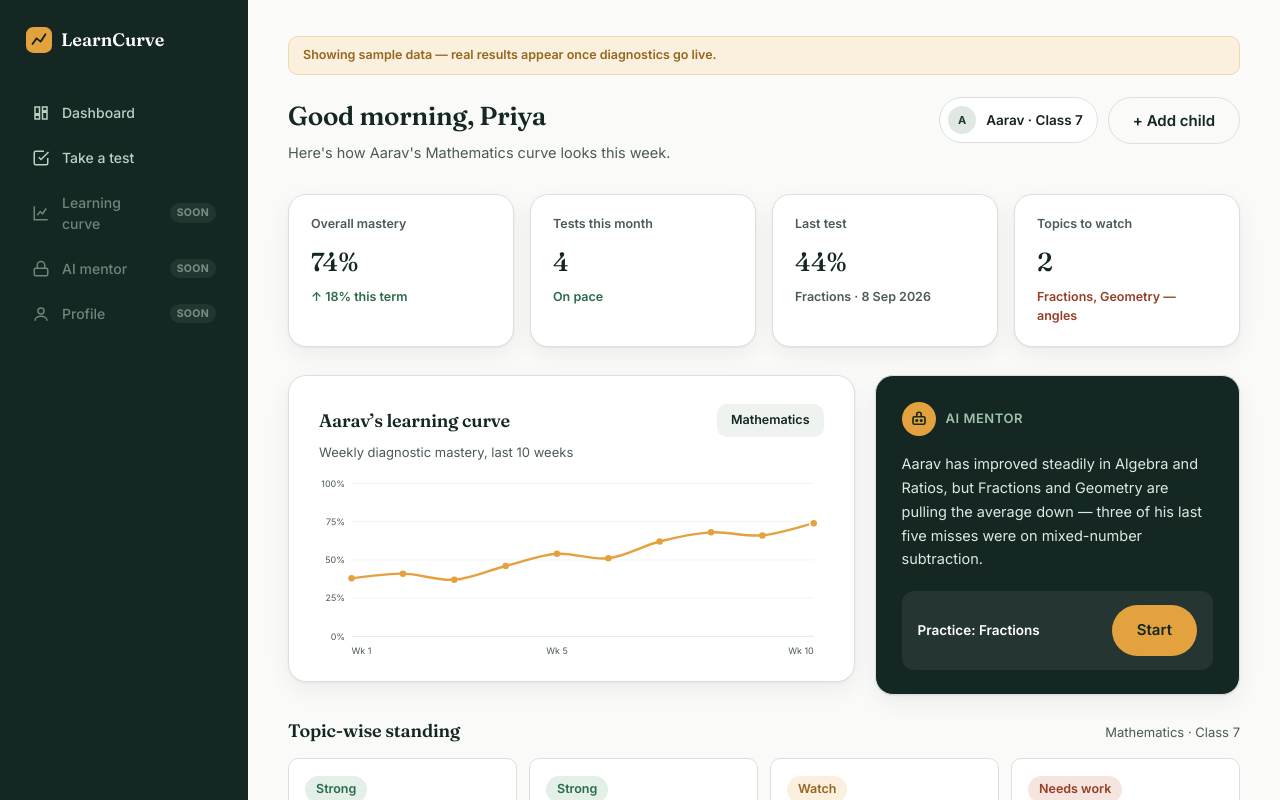
Test: Dashboard › lets a parent add a second child and switch between them
The image size is (1280, 800).
Expected: the text "Overall mastery" is shown, [311,216,406,230]
Click the button "+ Add child": click(1174, 120) [1108,97,1240,144]
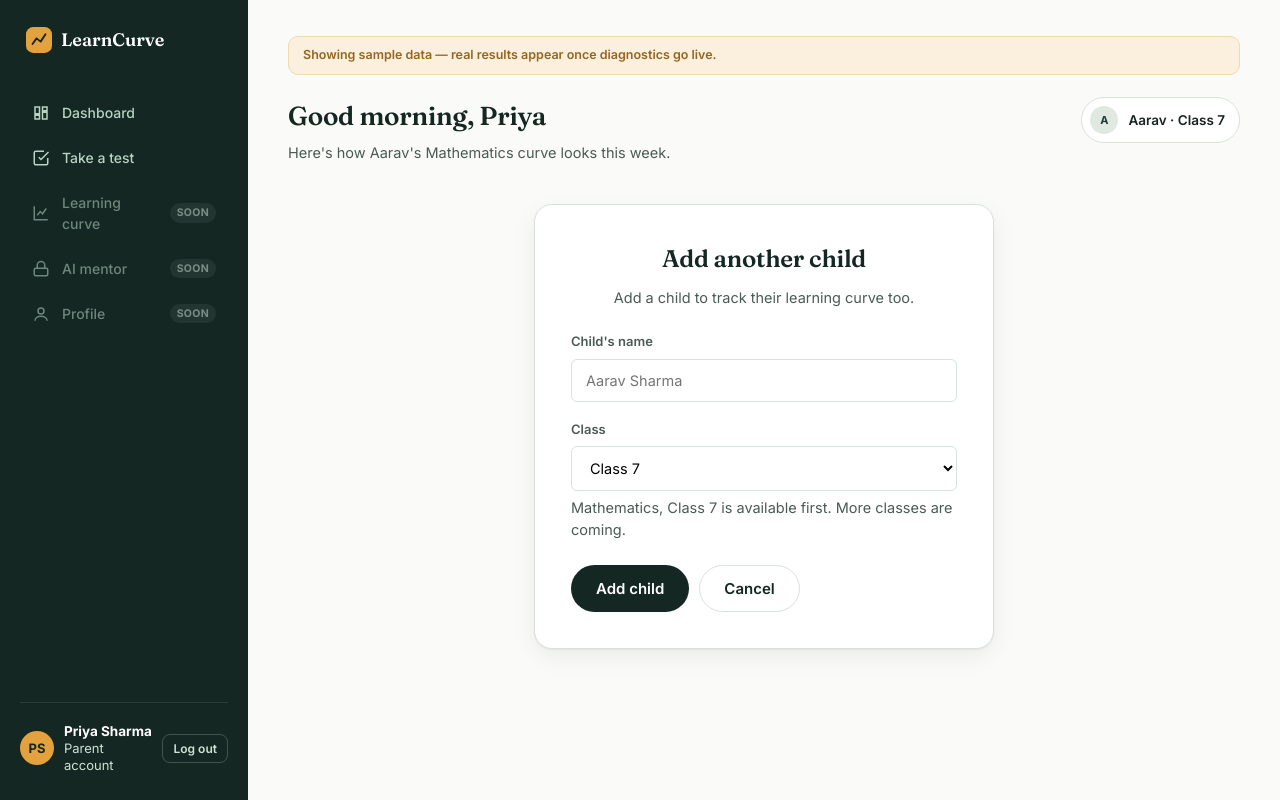
In the field labelled "Child's name": (764, 380) [571,359,957,402], type "Meera Sharma"
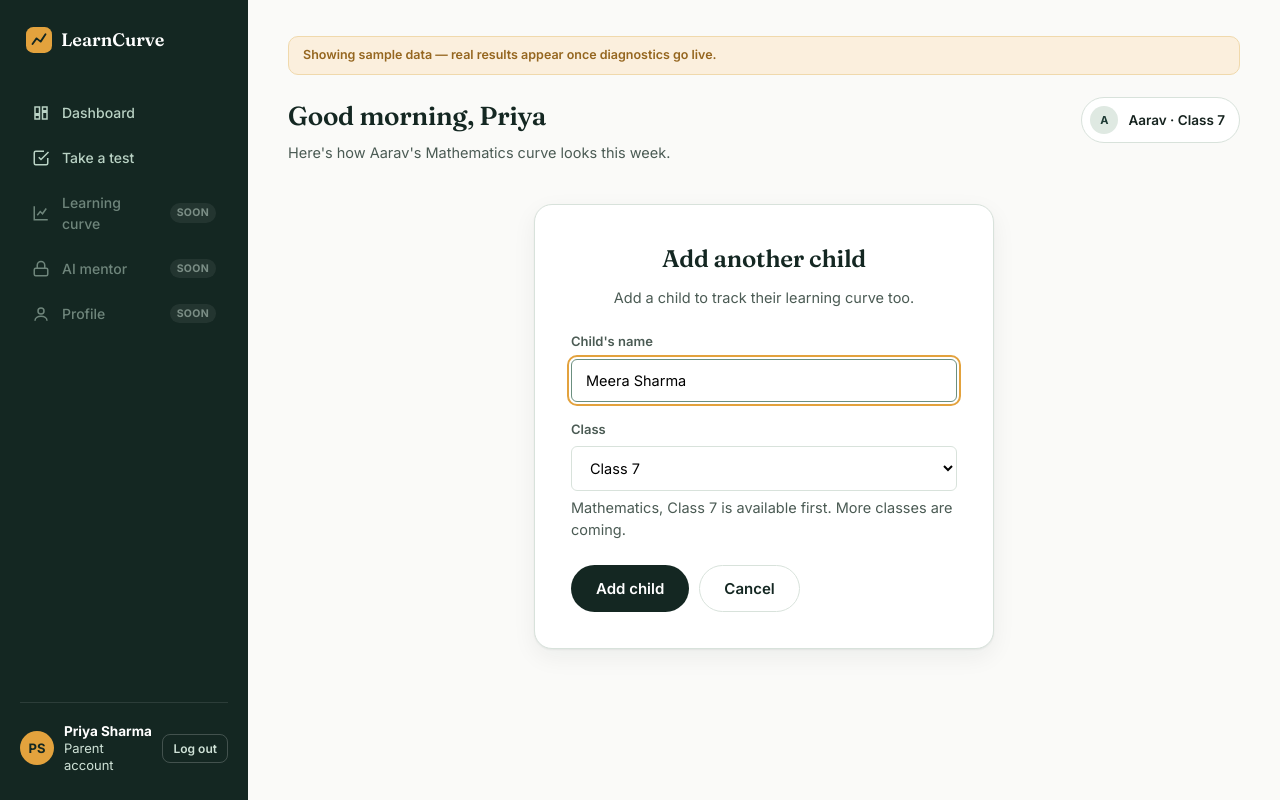
Click the button "Add child": click(630, 588) [571,565,689,612]
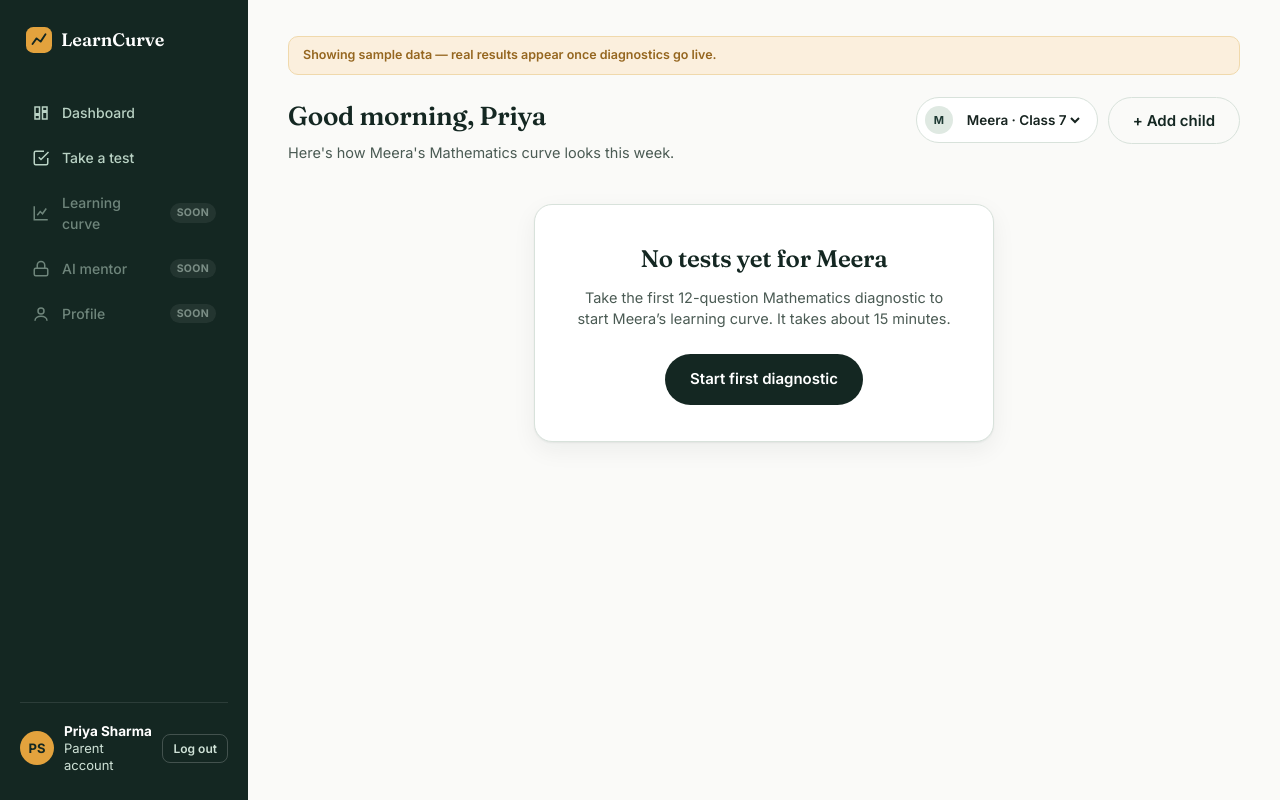
Now the heading "No tests yet for Meera" is shown, box [640,244,888,272]
Select "Aarav · Class 7" in the dropdown named "Switch child": (1023, 120) [963,111,1083,129]
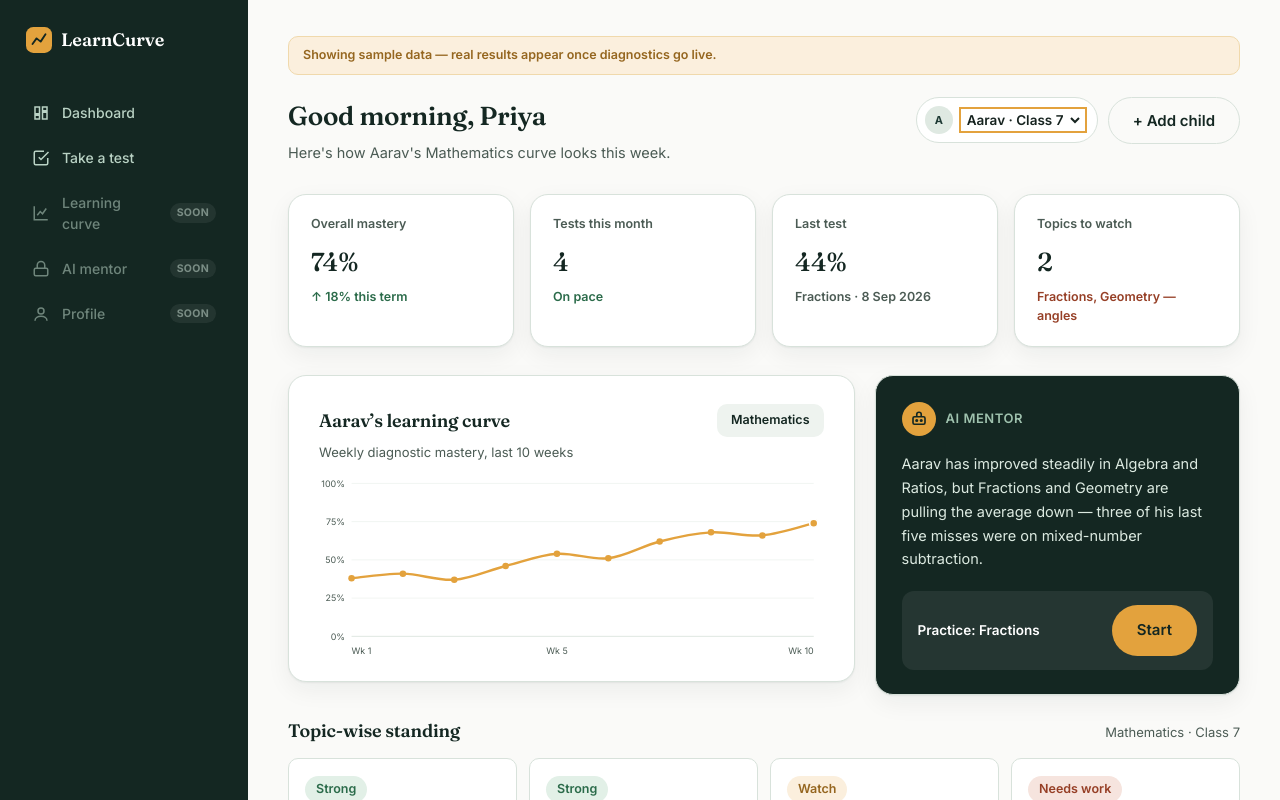
Now the text "Overall mastery" is shown, box [311,216,406,230]
